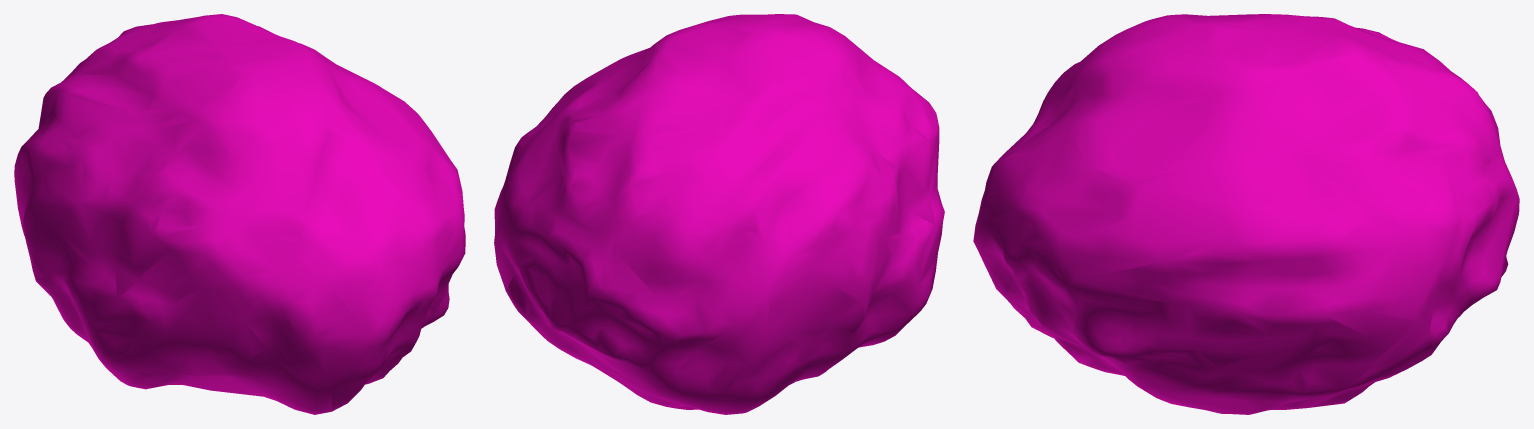
File: PhiloStone_01.fbx
The picture shows the model from 3 angles, left to right: view 1: azimuth 30°, elevation 25°; view 2: azimuth 150°, elevation 25°; view 3: azimuth 270°, elevation 25°; orthographic projection. The views are drawn at different scales.
Parts seen in each view (by area): view 1: PhiloStone.001; view 2: PhiloStone.001; view 3: PhiloStone.001.
Boxes of the visible parts, bbox=[...] form: PhiloStone.001: bbox=[14, 14, 465, 414]; PhiloStone.001: bbox=[494, 14, 944, 414]; PhiloStone.001: bbox=[973, 14, 1519, 414].
Bounding box in the file's own units: 12.35 × 10.58 × 15.26.
